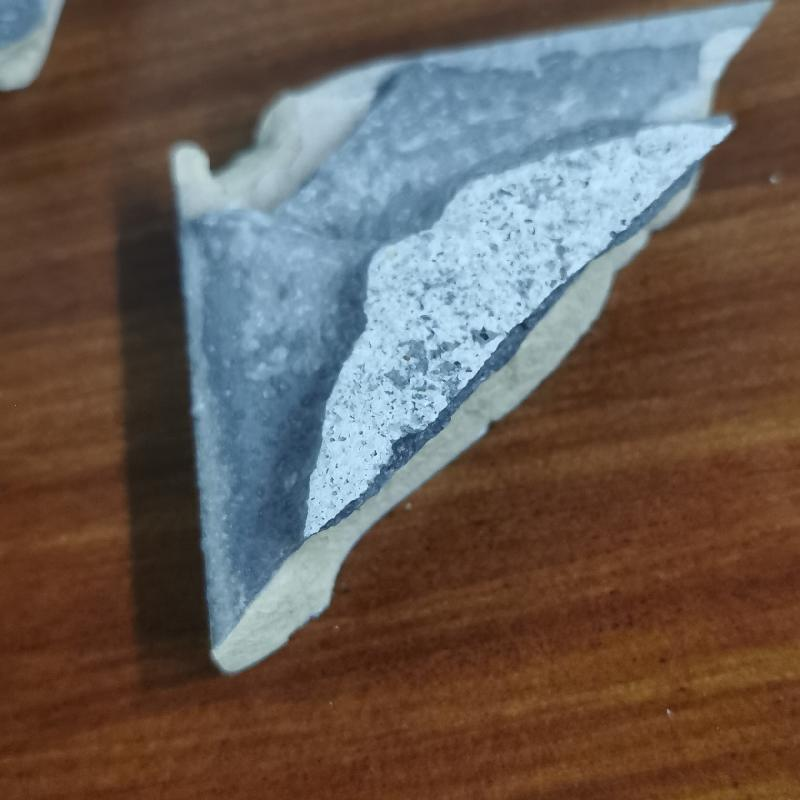tile: (162, 8, 771, 678)
